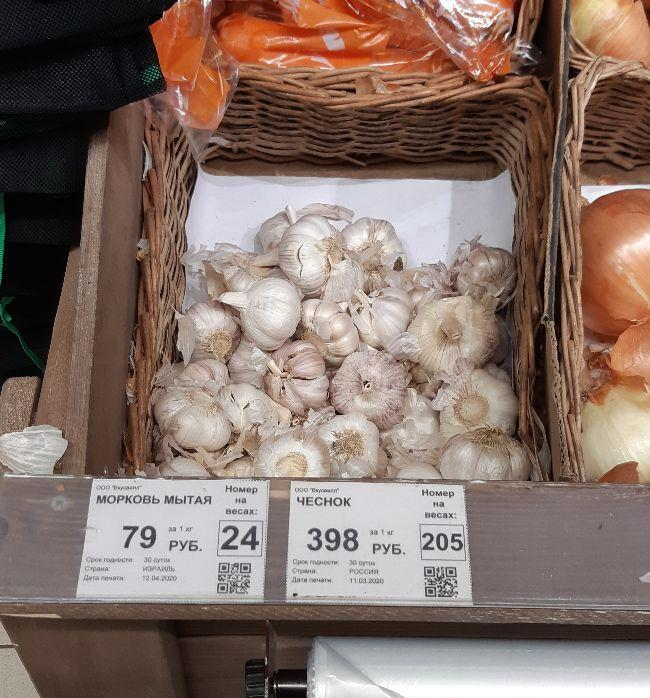garlic: (167, 179, 558, 497)
